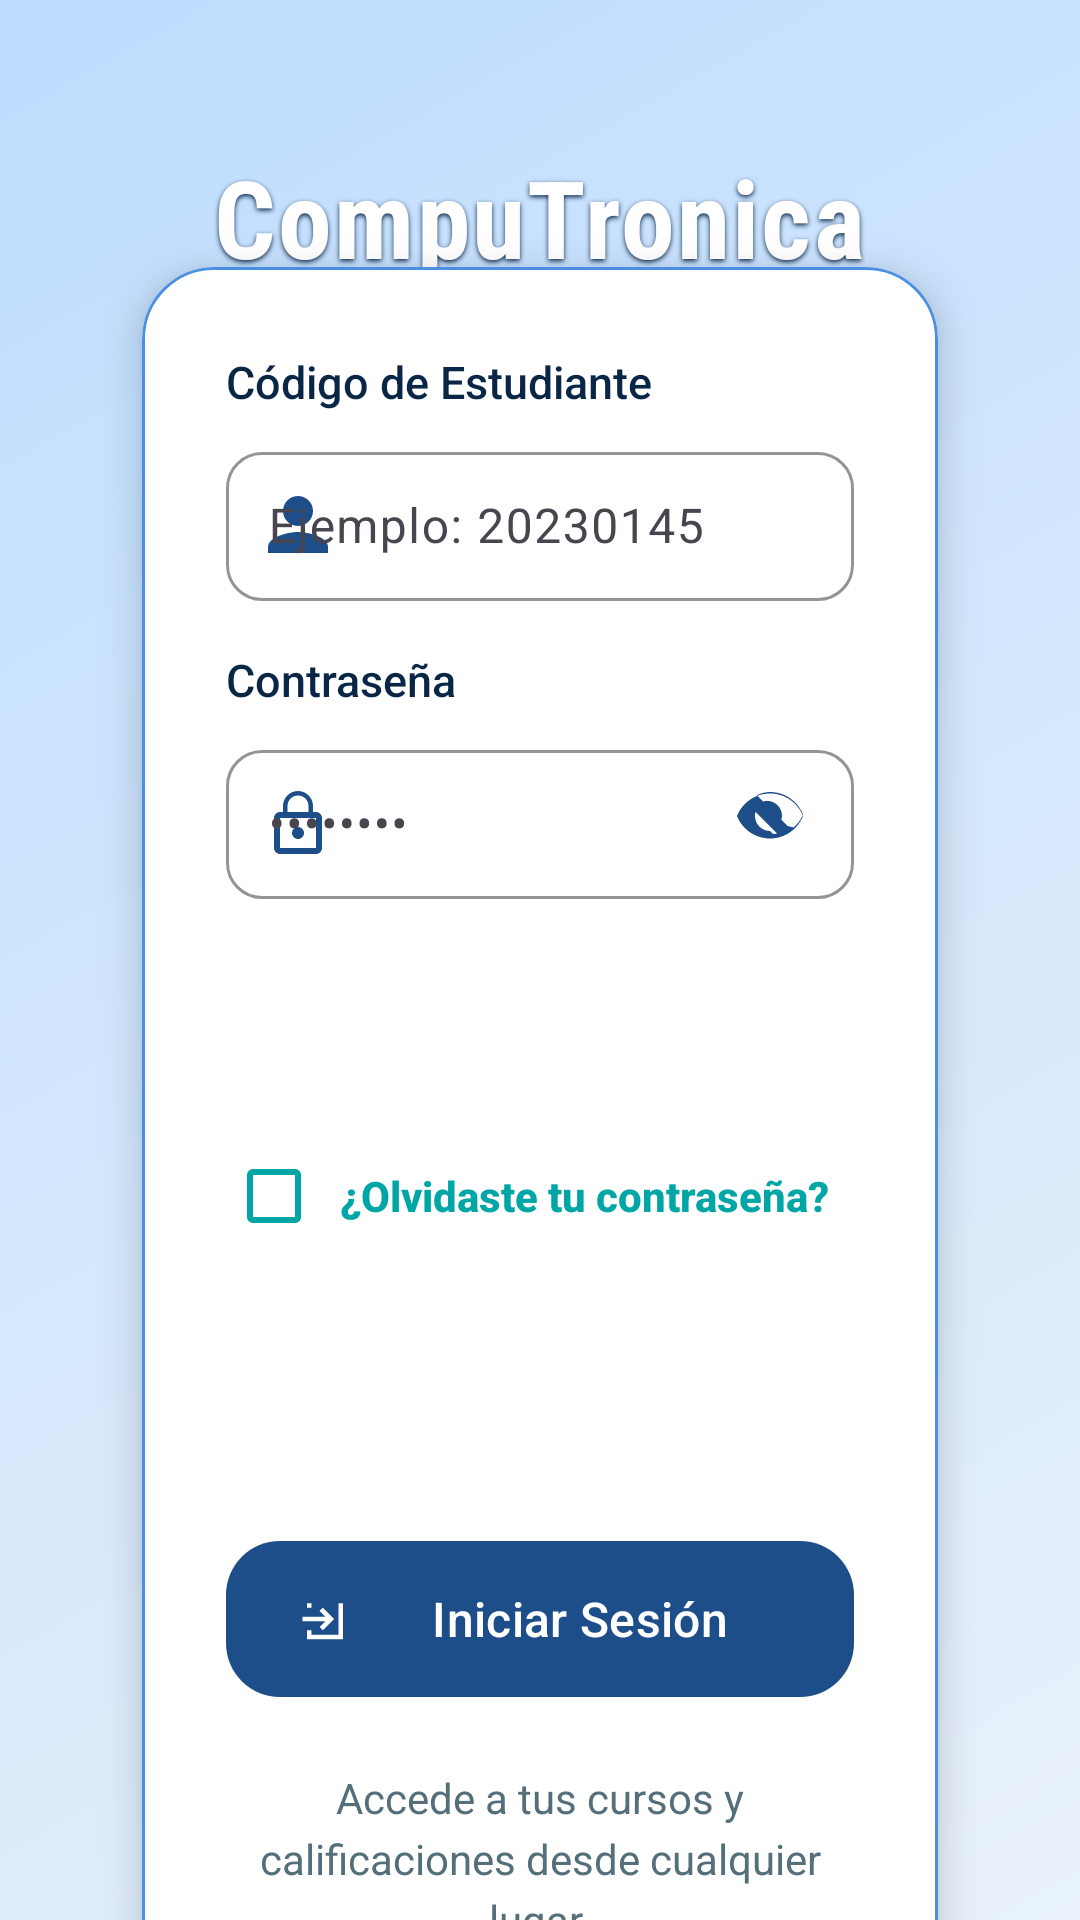

Named icons in this screenshot (1080 x 1920) and their bounding boxes, (x1, y1, x2, y2):
eye closed: (737, 792, 803, 839)
